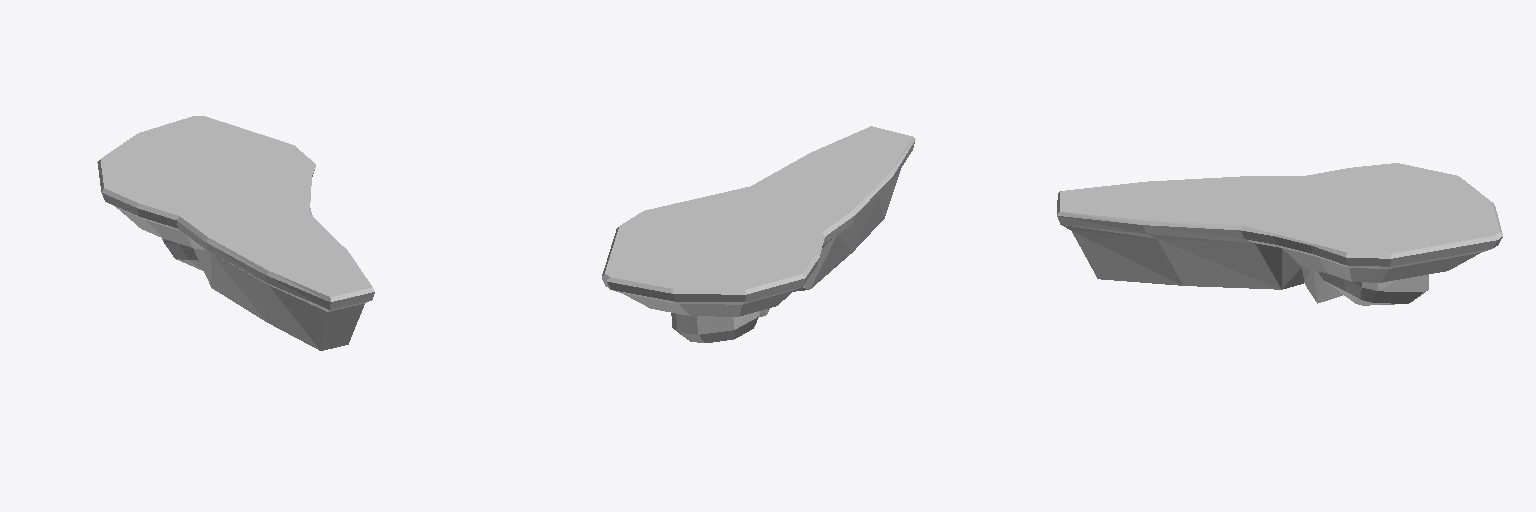
File: Level2FinalPlat.obj
3 views of the same model, side by side, from view 1: azimuth 30°, elevation 25°; view 2: azimuth 150°, elevation 25°; view 3: azimuth 270°, elevation 25° (orthographic).
Parts seen in each view (by area): view 1: Level2LastPlat_Plane.030; view 2: Level2LastPlat_Plane.030; view 3: Level2LastPlat_Plane.030.
Boxes of the visible parts, box(x1,y1,x2,y2) form: Level2LastPlat_Plane.030: box(97, 116, 374, 350); Level2LastPlat_Plane.030: box(602, 126, 915, 342); Level2LastPlat_Plane.030: box(1057, 163, 1502, 305).
Size of the model in its own units: 42.2 by 20.05 by 85.